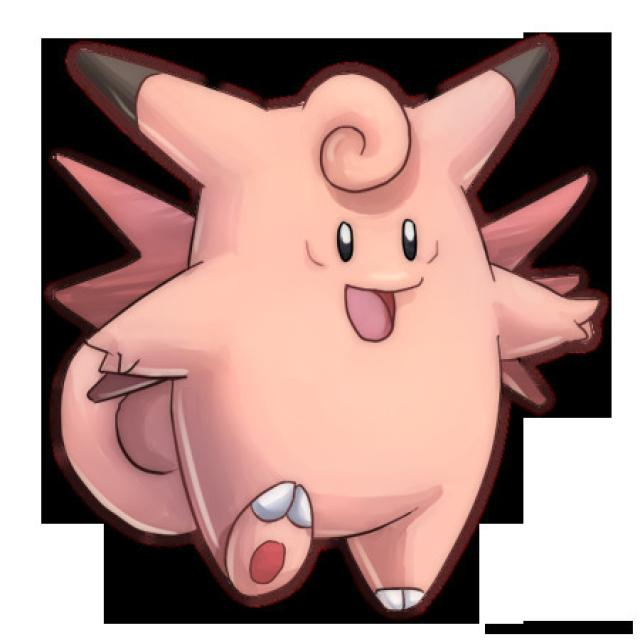Clefable: (102, 53, 556, 608)
